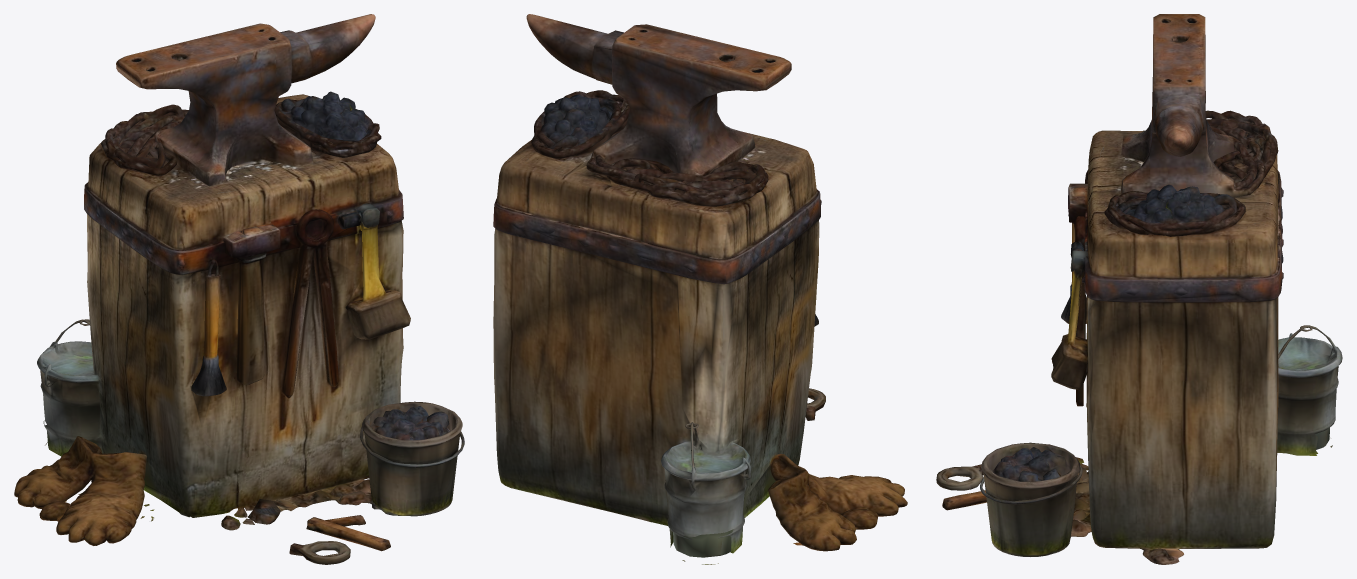
3 views of the same model, side by side, from view 1: azimuth 30°, elevation 25°; view 2: azimuth 150°, elevation 25°; view 3: azimuth 270°, elevation 25° (orthographic). The views are drawn at different scales.
Visible parts, largest first — view 1: material; view 2: material; view 3: material.
Boxes of the visible parts, x1,y1,x2,y2 form: material: [14, 14, 464, 564]; material: [493, 14, 907, 564]; material: [936, 14, 1342, 564].
Size of the model in its own units: 0.8625 by 1 by 0.8614.
1 material, 1 textured.
